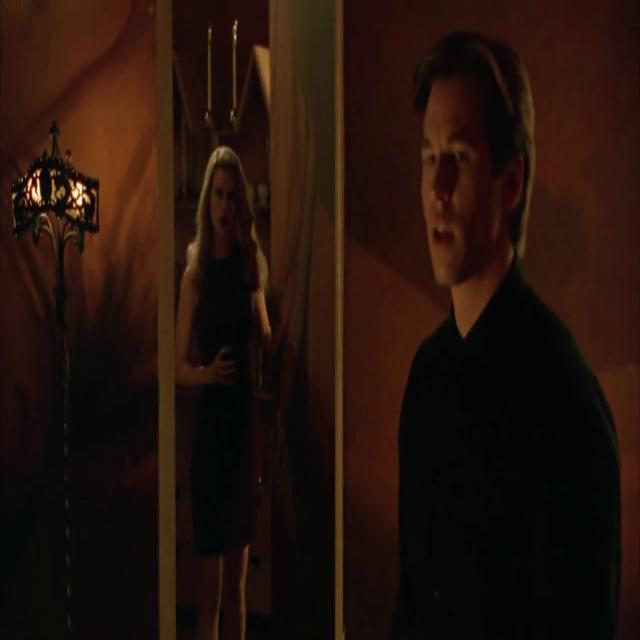People: (400, 45, 600, 640), (174, 117, 275, 625)
